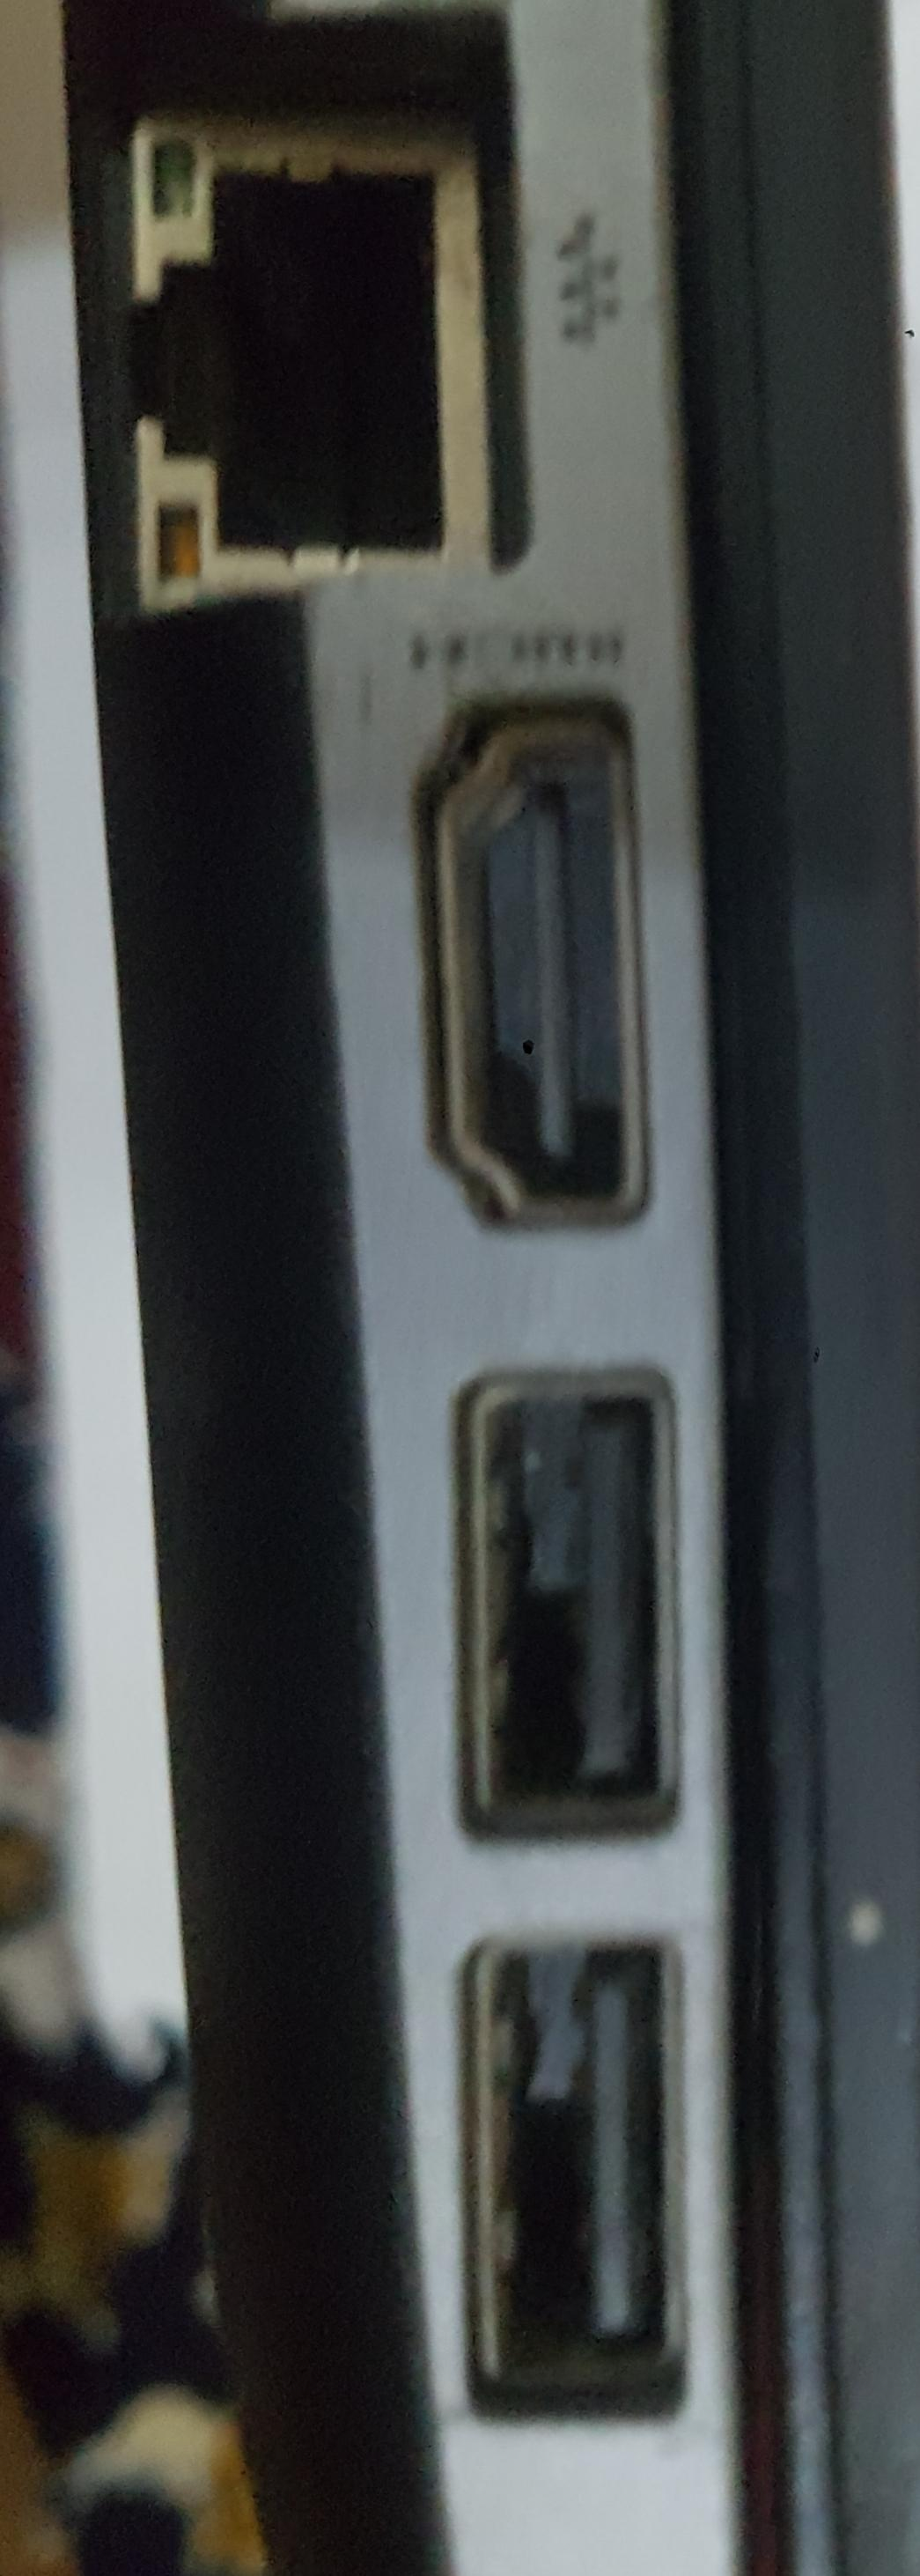electronic: (0, 0, 816, 2576)
